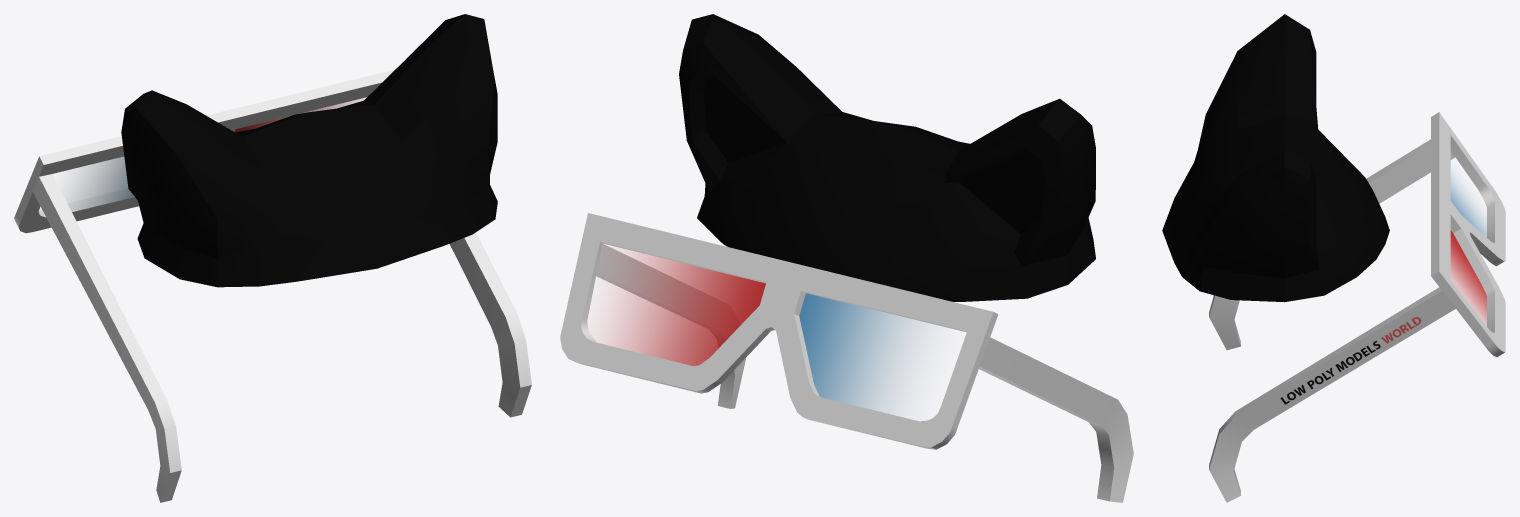
The model's file is acc4.glb.
3 renders of one model, left to right at view 1: azimuth 30°, elevation 25°; view 2: azimuth 150°, elevation 25°; view 3: azimuth 270°, elevation 25°, orthographic. The views are drawn at different scales.
Parts seen in each view (by area): view 1: KJWalker_Head.001; view 2: KJWalker_Head.001; view 3: KJWalker_Head.001.
Boxes of the visible parts, box(x1,y1,x2,y2) form: KJWalker_Head.001: box(14, 14, 531, 502); KJWalker_Head.001: box(560, 14, 1133, 502); KJWalker_Head.001: box(1162, 14, 1505, 502).
Bounding box in the file's own units: 1.12 × 1.12 × 1.02.
3 materials, 1 textured.
